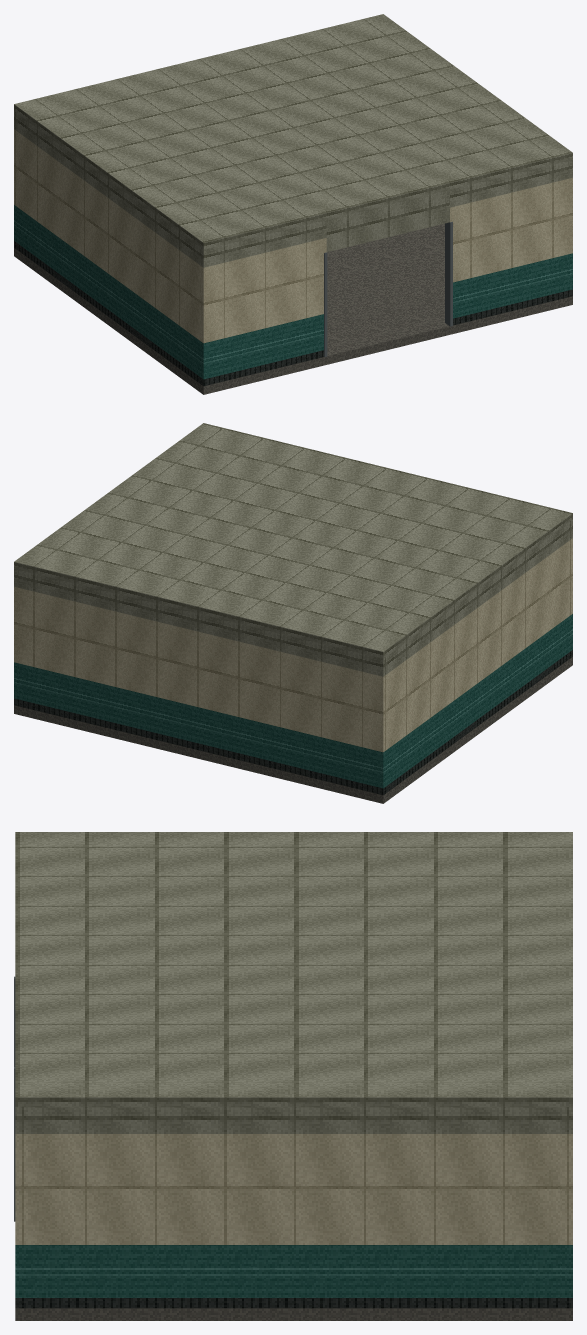
File: loading_dock.glb
The picture shows the model from 3 angles, top to bottom: view 1: azimuth 30°, elevation 25°; view 2: azimuth 150°, elevation 25°; view 3: azimuth 270°, elevation 25°; orthographic projection. The views are drawn at different scales.
Parts seen in each view (by area): view 1: Drop ceiling-col, Concrete slab-col, Loading vestibule wall-col.006, Loading vestibule wall-col.014, Loading vestibule wall-col.018, Loading vestibule wall-col.005, Loading vestibule wall-col.013, Loading vestibule wall-col.017, Mall access lintel-col, Loading vestibule wall-col.007, Loading vestibule wall-col.015, Loading vestibule wall-col.019 (+4 smaller); view 2: Drop ceiling-col, Loading vestibule wall-col.002, Loading vestibule wall-col.006, Loading vestibule wall-col.001, Loading vestibule wall-col.003, Loading vestibule wall-col.005, Concrete slab-col, Loading vestibule wall-col.007, Loading vestibule wall-col, Loading vestibule wall-col.004; view 3: Drop ceiling-col, Loading vestibule wall-col.010, Loading vestibule wall-col.009, Loading vestibule wall-col.011, Concrete slab-col, Loading vestibule wall-col.008, Loading vestibule wall-col.002, Loading vestibule wall-col.018, Loading vestibule wall-col.001, Loading vestibule wall-col.017.
Part boxes in pixels (x1,y1,x2,y2): Drop ceiling-col: (14,14,572,249); Concrete slab-col: (14,223,572,394); Loading vestibule wall-col.006: (18,132,199,339); Loading vestibule wall-col.014: (199,238,326,343); Loading vestibule wall-col.018: (450,177,572,282); Loading vestibule wall-col.005: (18,208,199,375); Loading vestibule wall-col.013: (199,314,323,379); Loading vestibule wall-col.017: (453,253,572,318); Mall access lintel-col: (326,188,449,252); Loading vestibule wall-col.007: (18,114,199,264); Loading vestibule wall-col.015: (199,219,326,267); Loading vestibule wall-col.019: (450,159,572,207); Drop ceiling-col: (14,423,572,658); Loading vestibule wall-col.002: (14,586,387,752); Loading vestibule wall-col.006: (387,541,568,748); Loading vestibule wall-col.001: (14,662,387,788); Loading vestibule wall-col.003: (14,568,387,676); Loading vestibule wall-col.005: (387,617,568,784); Concrete slab-col: (14,657,572,803); Loading vestibule wall-col.007: (387,522,568,673); Loading vestibule wall-col: (14,698,387,795); Loading vestibule wall-col.004: (387,653,568,791); Drop ceiling-col: (15,832,572,1107); Loading vestibule wall-col.010: (28,1134,560,1244); Loading vestibule wall-col.009: (28,1245,560,1297); Loading vestibule wall-col.011: (28,1107,560,1133); Concrete slab-col: (15,1308,572,1320); Loading vestibule wall-col.008: (28,1298,560,1308); Loading vestibule wall-col.002: (560,1134,572,1244); Loading vestibule wall-col.018: (15,1134,27,1244); Loading vestibule wall-col.001: (560,1245,572,1297); Loading vestibule wall-col.017: (15,1245,27,1297).
Bounding box in the file's own units: 9 × 3.54 × 8.02.
Materials: 11 (8 with a texture image).
